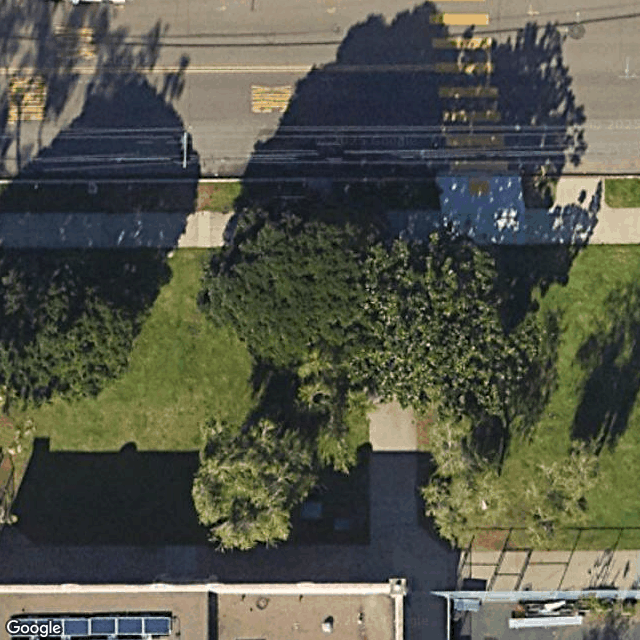palm: (185, 411, 318, 554)
